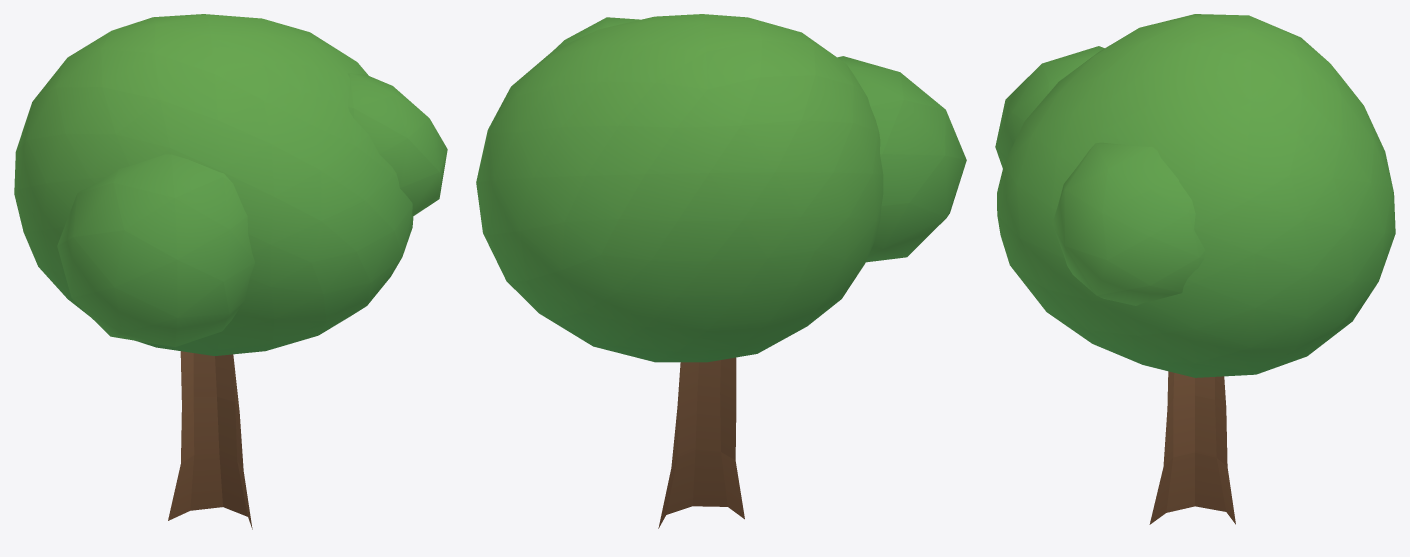
Rendered from tree_8_hi.glb.
3 views of the same model, side by side, from view 1: azimuth 30°, elevation 25°; view 2: azimuth 150°, elevation 25°; view 3: azimuth 270°, elevation 25° (orthographic). The views are drawn at different scales.
Visible parts, largest first — view 1: tree_hi_8; view 2: tree_hi_8; view 3: tree_hi_8.
Part boxes in pixels (x1,y1,x2,y2): tree_hi_8: (14, 14, 447, 529); tree_hi_8: (476, 14, 966, 528); tree_hi_8: (995, 14, 1395, 524).
Bounding box in the file's own units: 2.59 × 3.15 × 2.37.
